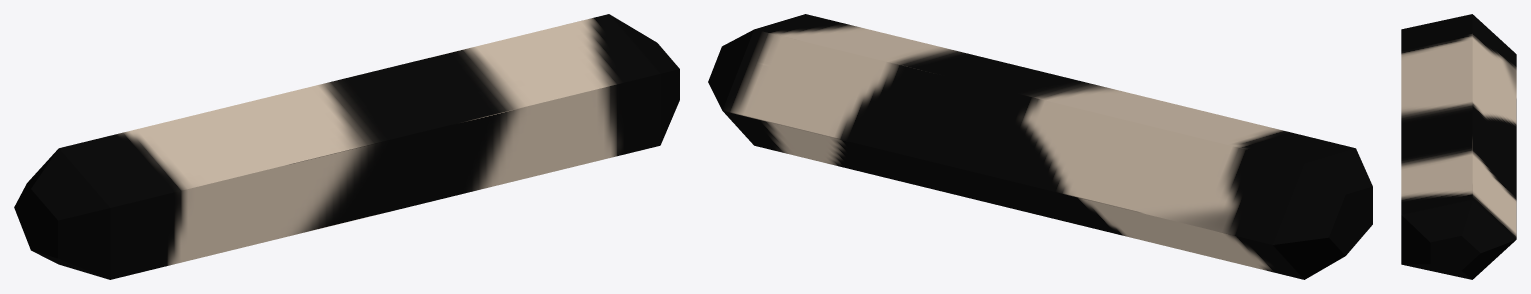
The model's file is Moron.fbx.
The picture shows the model from 3 angles, left to right: view 1: azimuth 30°, elevation 25°; view 2: azimuth 150°, elevation 25°; view 3: azimuth 270°, elevation 25°; orthographic projection. The views are drawn at different scales.
Visible parts, largest first — view 1: Moron; view 2: Moron; view 3: Moron.
Part boxes in pixels (x1,y1,x2,y2): Moron: (14, 14, 679, 279); Moron: (708, 14, 1372, 279); Moron: (1401, 14, 1516, 279).
Bounding box in the file's own units: 61.07 × 14.08 × 10.85.
